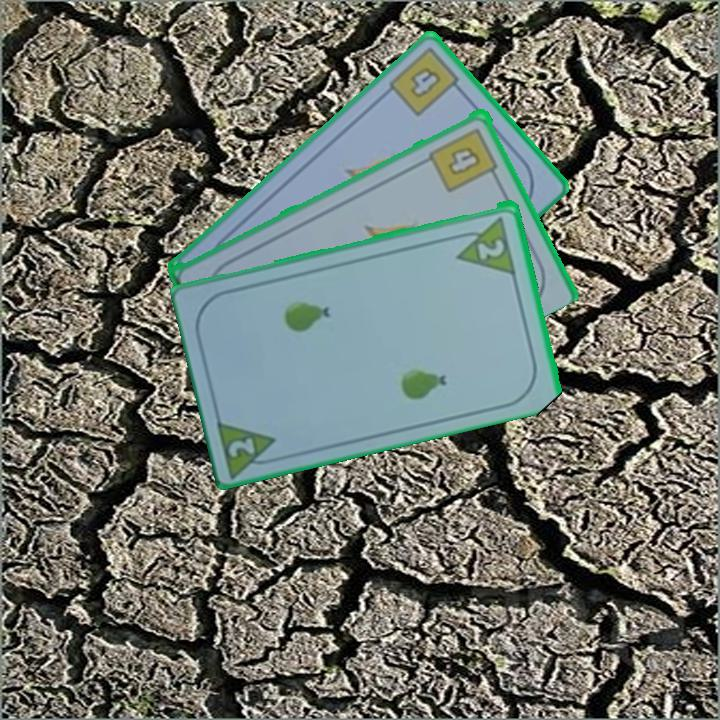2p: (214, 413, 286, 477), (450, 212, 519, 276)
4b: (384, 42, 467, 119), (426, 123, 502, 195)
